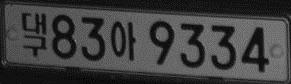3: (211, 24, 237, 70), (81, 16, 106, 62), (180, 22, 205, 68)
4: (242, 26, 269, 72)
8: (50, 13, 77, 59)
9: (148, 20, 175, 64)
대구_V: (21, 11, 48, 57)
아: (110, 21, 136, 61)
